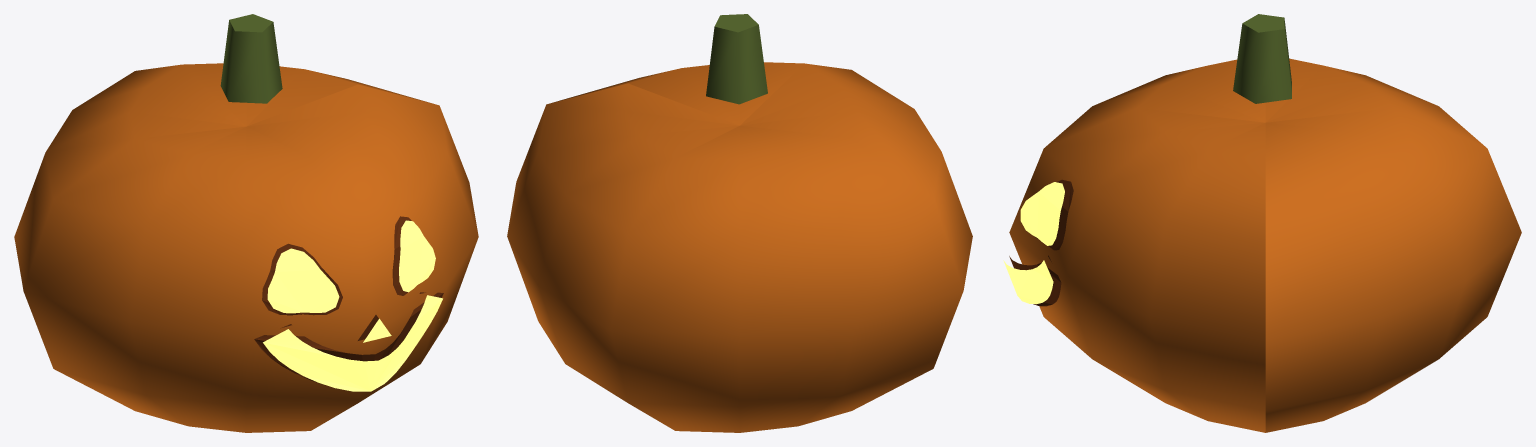
Rendered from field_jack_lod.a6046153.glb.
3 views of the same model, side by side, from view 1: azimuth 30°, elevation 25°; view 2: azimuth 150°, elevation 25°; view 3: azimuth 270°, elevation 25° (orthographic).
Visible parts, largest first — view 1: field_jack; view 2: field_jack; view 3: field_jack.
Boxes of the visible parts, x1=… form: field_jack: x1=14, y1=14, x2=478, y2=432; field_jack: x1=507, y1=14, x2=972, y2=432; field_jack: x1=1003, y1=14, x2=1521, y2=432.
Bounding box in the file's own units: 1.1 × 0.9 × 1.12.
